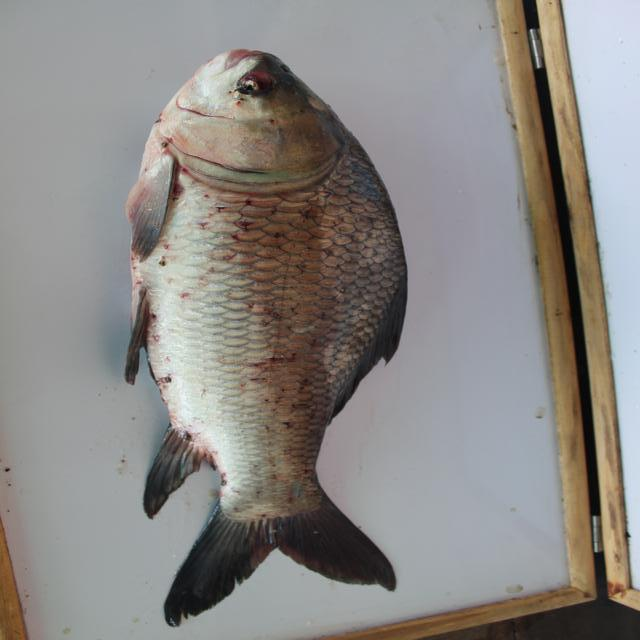Catla: (85, 38, 410, 628)
